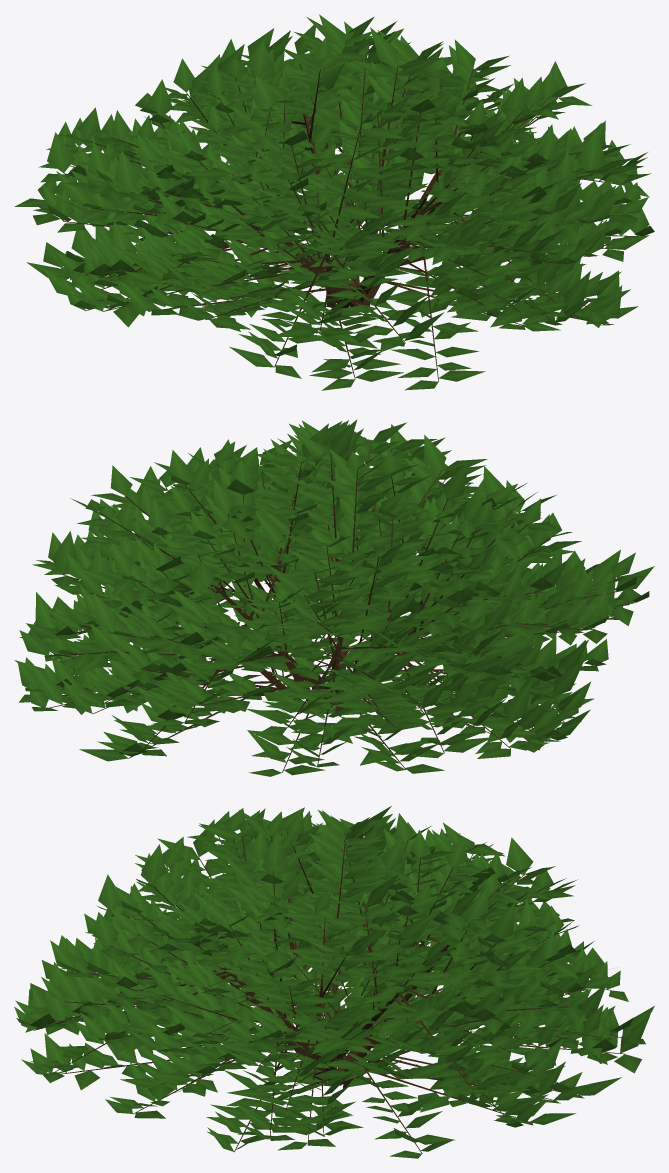
File: Khoi_LOD0.fbx
The picture shows the model from 3 angles, top to bottom: view 1: azimuth 30°, elevation 25°; view 2: azimuth 150°, elevation 25°; view 3: azimuth 270°, elevation 25°; orthographic projection. The views are drawn at different scales.
Visible parts, largest first — view 1: Leaves_Khoi_LOD0; view 2: Leaves_Khoi_LOD0; view 3: Leaves_Khoi_LOD0.
Part boxes in pixels (box(x1,y1,x2,y2)): Leaves_Khoi_LOD0: box(14, 14, 654, 390); Leaves_Khoi_LOD0: box(14, 419, 654, 776); Leaves_Khoi_LOD0: box(14, 806, 654, 1158).
Size of the model in its own units: 179 by 73.82 by 182.
